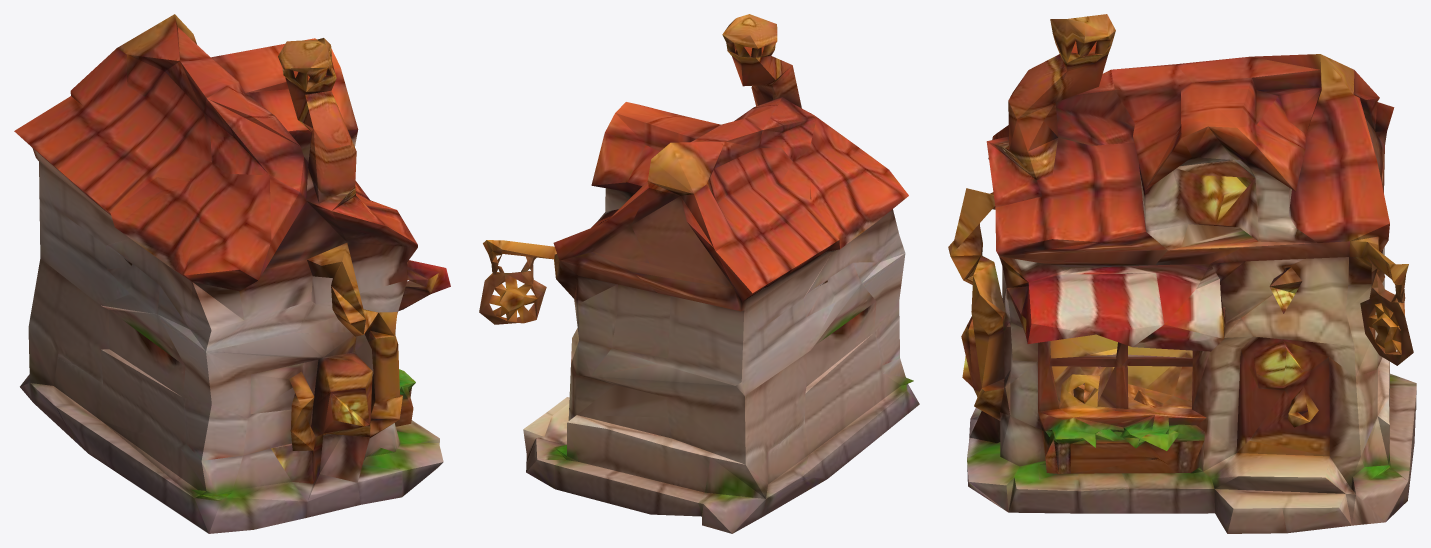
Rendered from shop.glb.
3 views of the same model, side by side, from view 1: azimuth 30°, elevation 25°; view 2: azimuth 150°, elevation 25°; view 3: azimuth 270°, elevation 25° (orthographic). The views are drawn at different scales.
Parts seen in each view (by area): view 1: tripo_node_d64e0229-46fd-46c7-8661-8c5457596d53; view 2: tripo_node_d64e0229-46fd-46c7-8661-8c5457596d53; view 3: tripo_node_d64e0229-46fd-46c7-8661-8c5457596d53.
Boxes of the visible parts, bbox=[...] form: tripo_node_d64e0229-46fd-46c7-8661-8c5457596d53: bbox=[14, 14, 450, 533]; tripo_node_d64e0229-46fd-46c7-8661-8c5457596d53: bbox=[479, 14, 919, 533]; tripo_node_d64e0229-46fd-46c7-8661-8c5457596d53: bbox=[948, 14, 1416, 533].
Size of the model in its own units: 0.7424 by 0.9808 by 0.92.
1 material, 1 textured.
